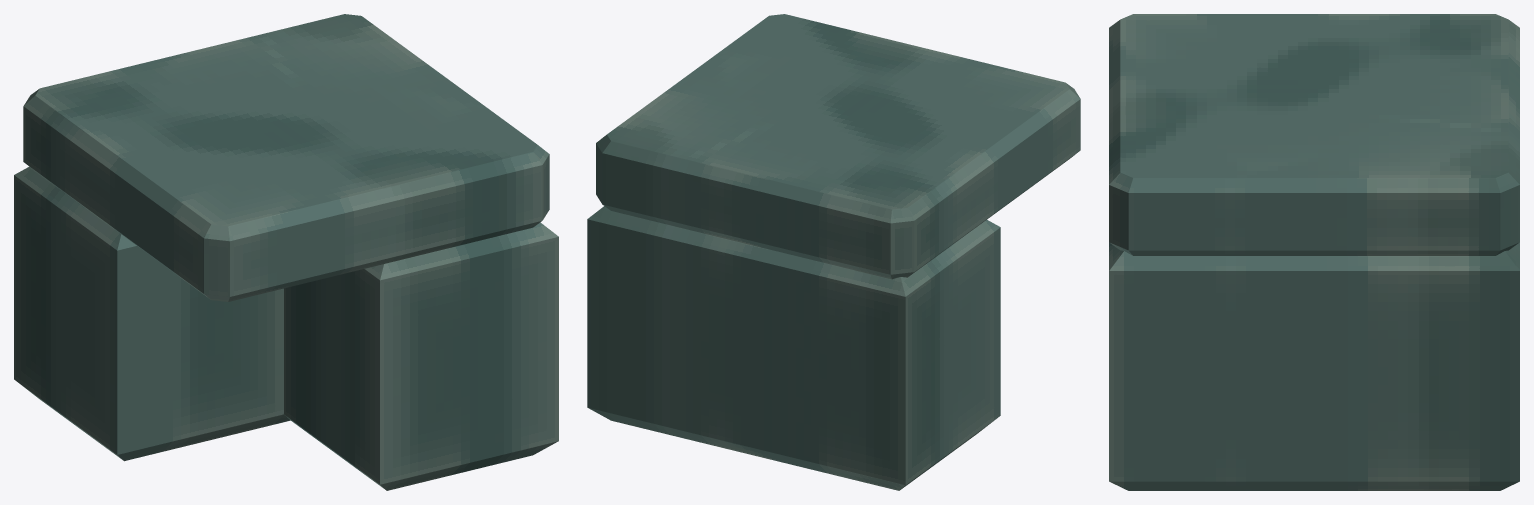
File: relic.glb
3 views of the same model, side by side, from view 1: azimuth 30°, elevation 25°; view 2: azimuth 150°, elevation 25°; view 3: azimuth 270°, elevation 25° (orthographic). The views are drawn at different scales.
Parts seen in each view (by area): view 1: Body.Metal; view 2: Body.Metal; view 3: Body.Metal.
Boxes of the visible parts, x1=… form: Body.Metal: x1=14, y1=14, x2=558, y2=490; Body.Metal: x1=587, y1=14, x2=1080, y2=490; Body.Metal: x1=1109, y1=14, x2=1519, y2=490.
Bounding box in the file's own units: 0.1581 × 0.1344 × 0.1581.
Materials: 1 (1 with a texture image).
